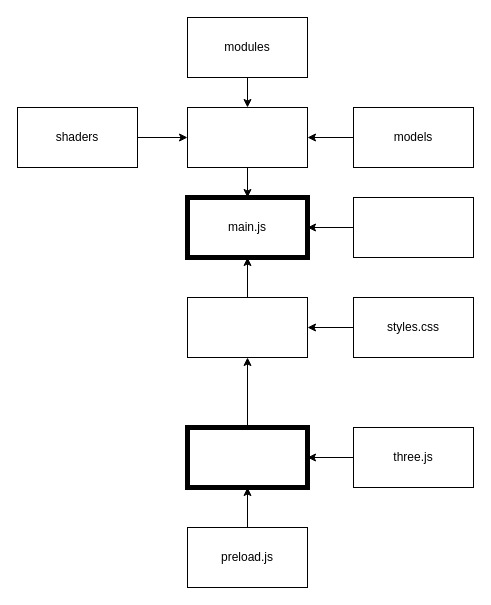
This 491x605 diagram has some shape labels left out. Each missing label, with the centre of its shape:
"files/folders" belongs at point 247,137.
"index.html" belongs at point 247,327.
"index.js" belongs at point 247,457.
"objects,json" belongs at point 413,227.
